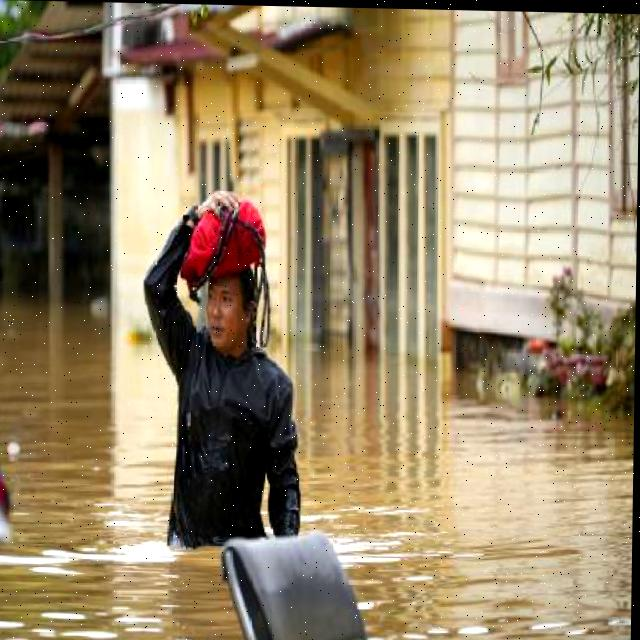civilian: (133, 181, 319, 568)
